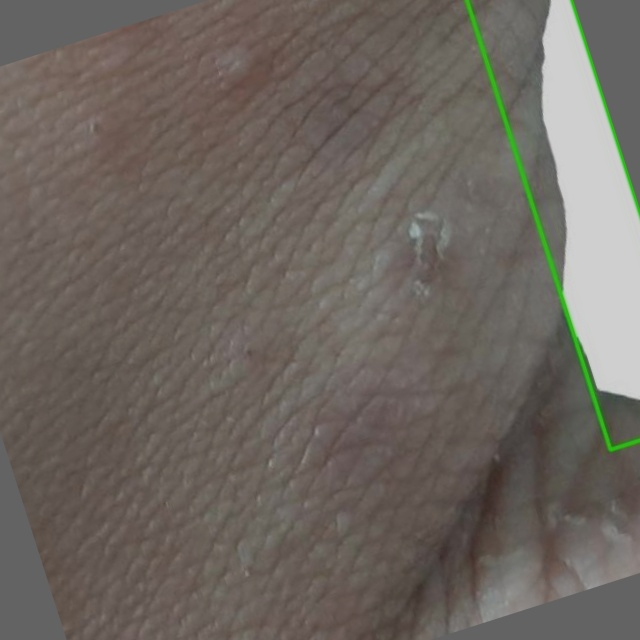Scabies: (467, 0, 639, 449)
